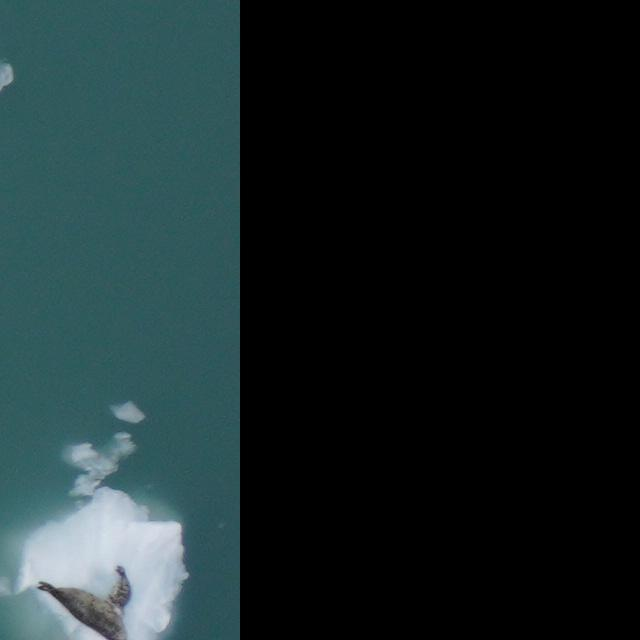seal: (31, 569, 138, 640), (99, 564, 140, 618)
